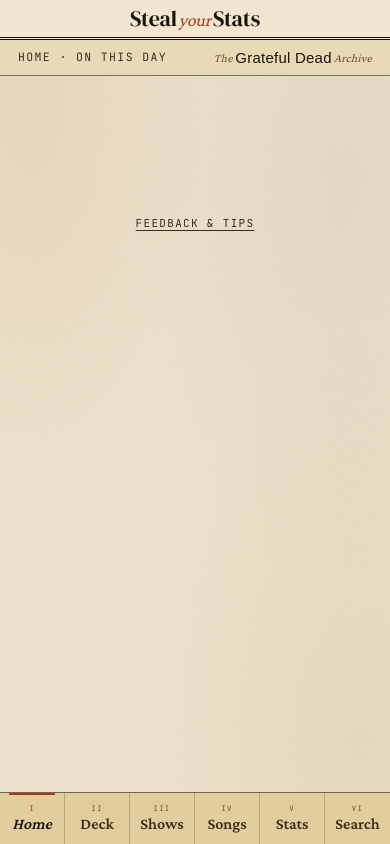
Test case: MobileShell › MobileChapter › shows DECK chapter when deck tab is active
The width and height of the screenshot is (390, 844).
Step 1. Click the text "Deck" → point(97, 824), box [80,813,114,835]
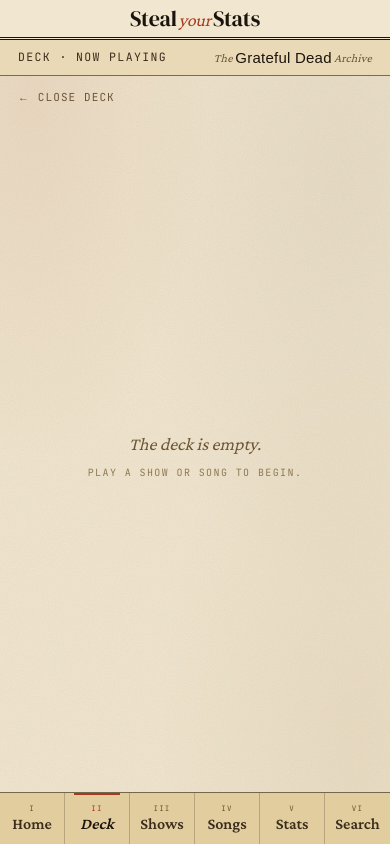
Result: the text "DECK · NOW PLAYING" is shown at [18,50,167,66]
